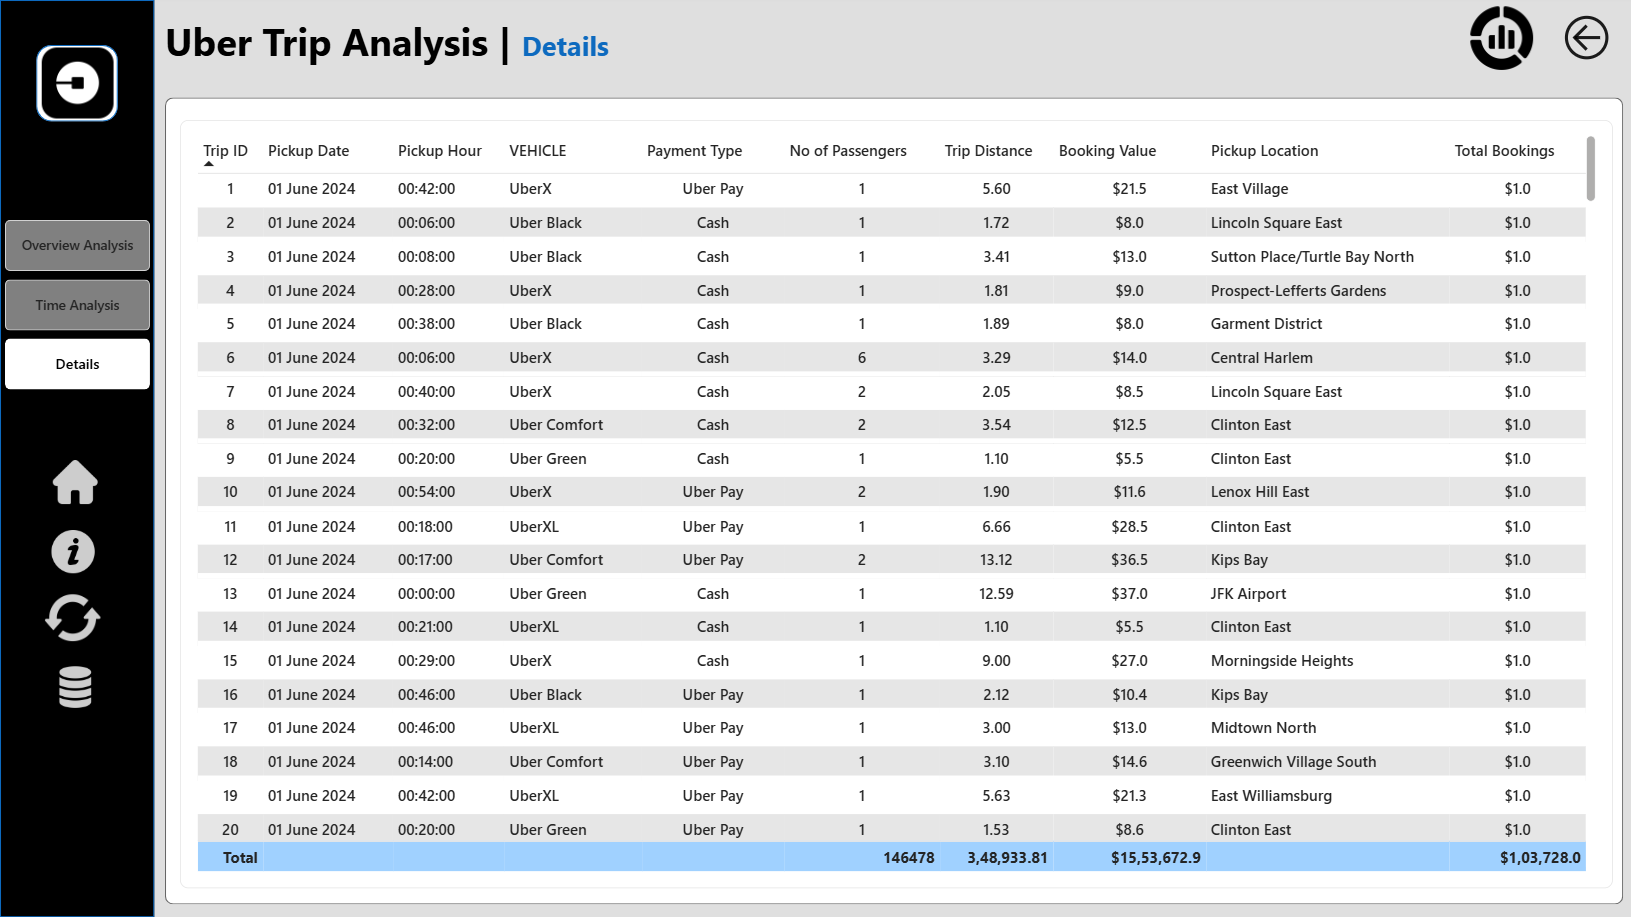

What the dashboard file says about the page in this screenshot:
{"tool":"powerbi","page":{"name":"Details","canvas":[1600,900],"ordinal":2},"visuals":[{"type":"shape","box":[0,0,151.2,899.7],"z":0},{"type":"textbox","box":[161.3,14.5,601.7,58.1],"z":1000},{"type":"shape","box":[161.3,95.9,1428.8,790.7],"z":2000},{"type":"tableEx","fields":{"Values":["UBER_TABLE.TRIP_ID","UBER_TABLE.Pickup Date","UBER_TABLE.Pickup Hour (HH MM SS)","UBER_TABLE.VEHICLE","UBER_TABLE.PAYMENT_TYPE","Sum(UBER_TABLE.PASSENGER_COUNT)","UBER_TABLE.Total Trip Distance Measure","UBER_TABLE.Total Booking Value","LOCATION_TABLE.Location","UBER_TABLE.Total Bookings"]},"box":[175.9,117.7,1404.1,752.9],"z":3000},{"type":"actionButton","box":[1520.6,6.2,69.8,62.1],"z":4000},{"type":"image","box":[1433.7,6.2,74.5,62.1],"z":5000},{"type":"pageNavigator","box":[4.4,215.1,142.4,167.2],"z":6000},{"type":"group","id":"g1","title":"Group 1","box":[4.4,43.6,142.4,75.6],"z":7000},{"type":"image","box":[44.9,451.2,57.1,43.5],"z":7001},{"type":"image","box":[42.1,519.2,59.8,42.1],"z":7002},{"type":"image","box":[42.1,577.6,59.8,54.4],"z":7003},{"type":"image","box":[44.9,652.4,57.1,40.8],"z":7004},{"type":"shape","box":[34.9,43.6,80,75],"z":33000,"group":"g1"},{"type":"image","box":[4.4,46.5,142.4,69.8],"z":34000,"group":"g1"}]}

Visuals, with their boxes in screenshot pixels (x1, y1, x2, y2), scaled from the page's 1600x900 canvas onto the 1631x917 screenshot:
shape: locate(0, 0, 154, 916)
textbox: locate(164, 15, 778, 74)
shape: locate(164, 98, 1621, 903)
tableEx - UBER_TABLE.TRIP_ID x UBER_TABLE.Pickup Date: locate(179, 120, 1611, 887)
actionButton: locate(1550, 6, 1621, 70)
image: locate(1461, 6, 1537, 70)
pageNavigator: locate(4, 219, 150, 390)
"Group 1" group: locate(4, 44, 150, 121)
image: locate(46, 460, 104, 504)
image: locate(43, 529, 104, 572)
image: locate(43, 589, 104, 644)
image: locate(46, 665, 104, 706)
shape: locate(36, 44, 117, 121)
image: locate(4, 47, 150, 118)
